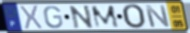G: (43, 5, 65, 30)
M: (90, 5, 121, 29)
N: (143, 5, 172, 29), (68, 5, 95, 30)
O: (121, 4, 147, 30)
X: (19, 4, 44, 31)
